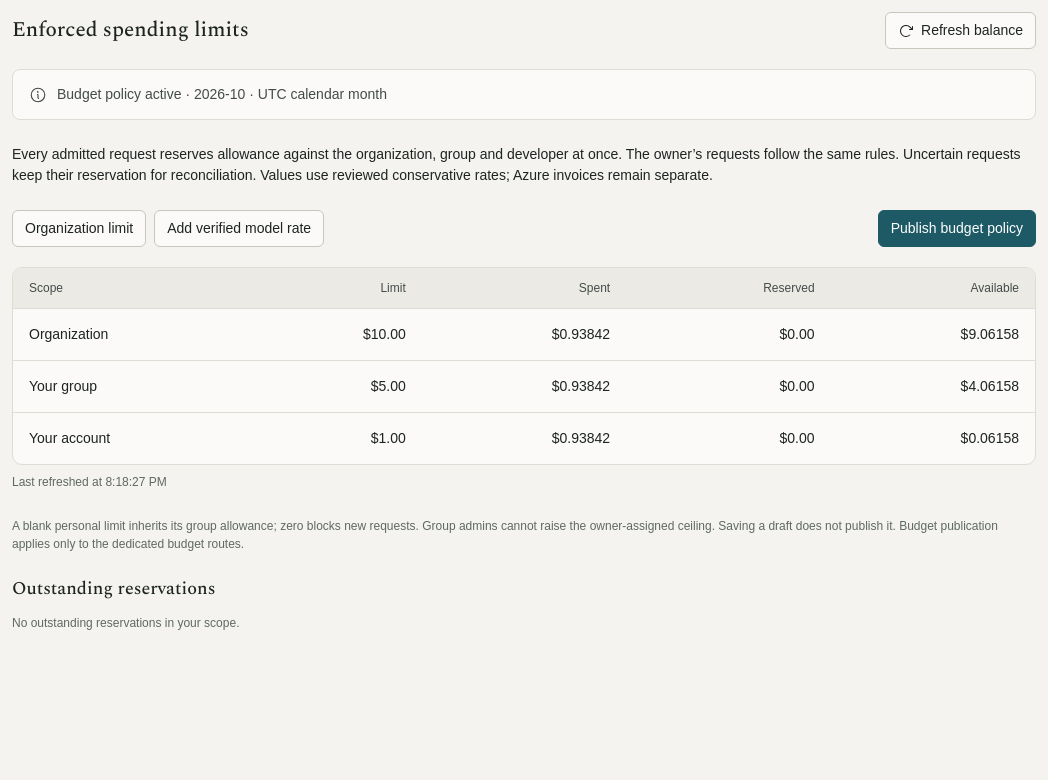
Test: budget table refresh › removes old balances when a successful refresh reports no active policy
Check: the text "$0.06158" is shown, box [831, 412, 1035, 464]
Click the button "Refresh balance" at (960, 30), box [885, 12, 1036, 49]
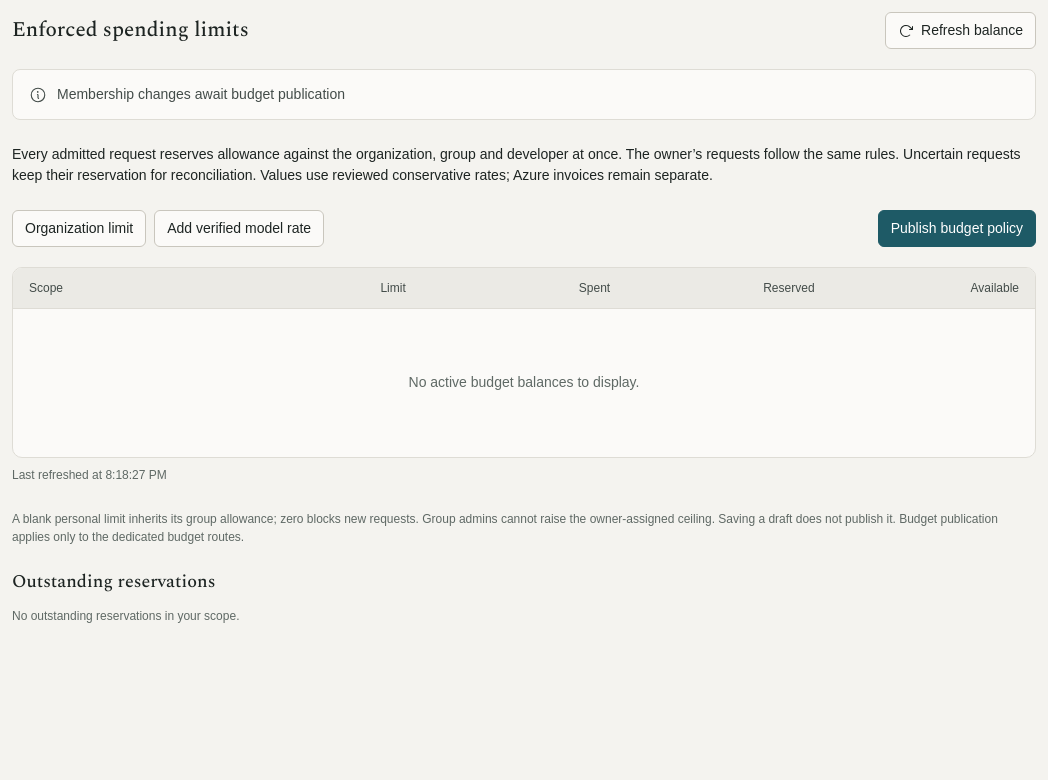
Check: the text "No active budget balances to display." is shown, box [13, 308, 1035, 456]
Check: the text "$0.06158" is gone
Check: the text "Membership changes await budget publication" is shown, box [57, 84, 345, 105]
